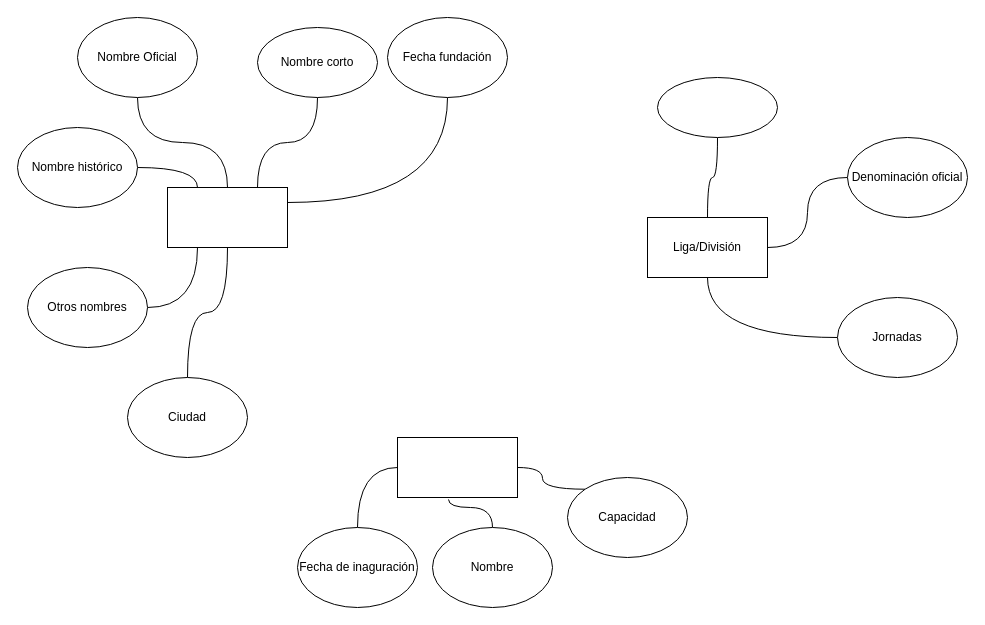
This 985x625 diagram has some shape labels left out. Here are the shapes that lost their labels. From the top down, the box of each, then its label:
(656, 76, 778, 138): Temporadas
(166, 186, 288, 248): Equipo
(396, 436, 518, 498): Estadios
